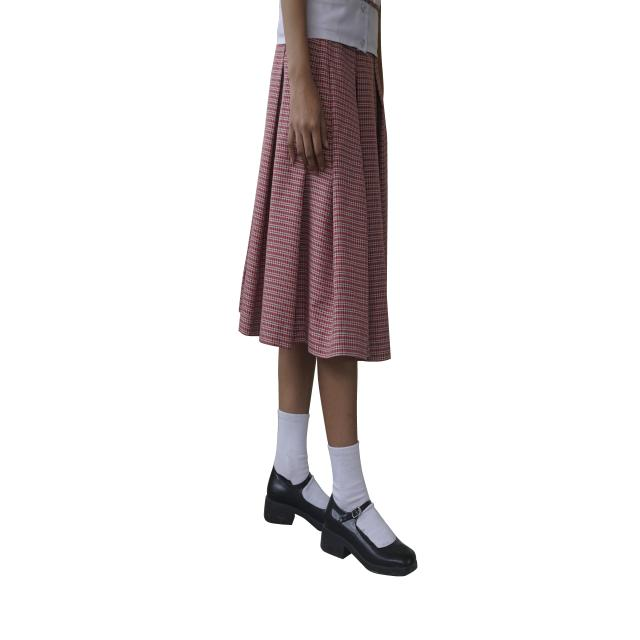shoes: (264, 468, 417, 576)
skirt: (239, 39, 391, 361)
